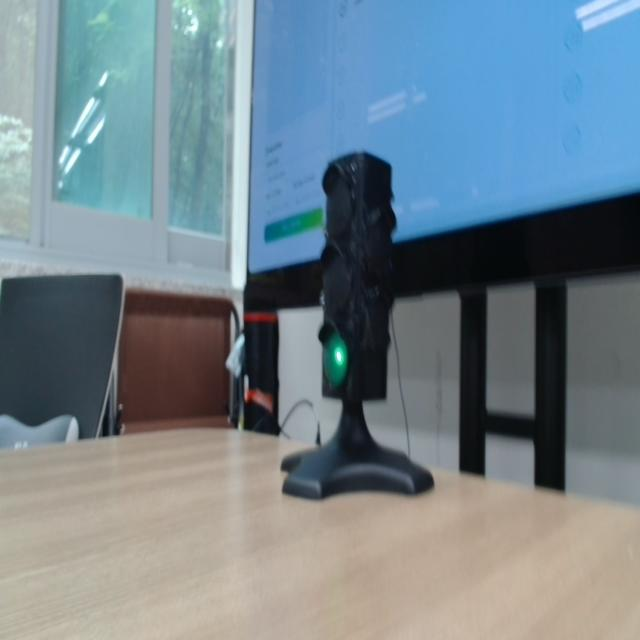green_light: (323, 334, 348, 387)
